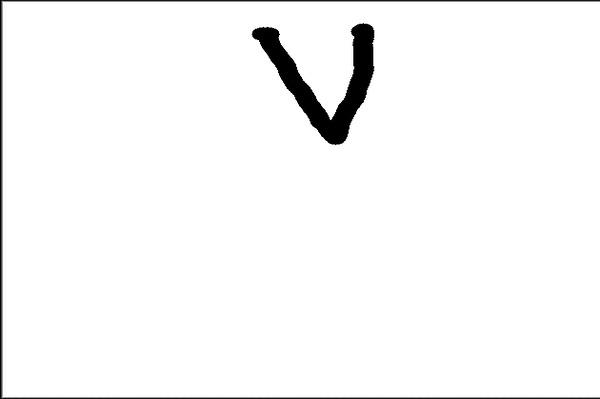V: (235, 19, 393, 147)
